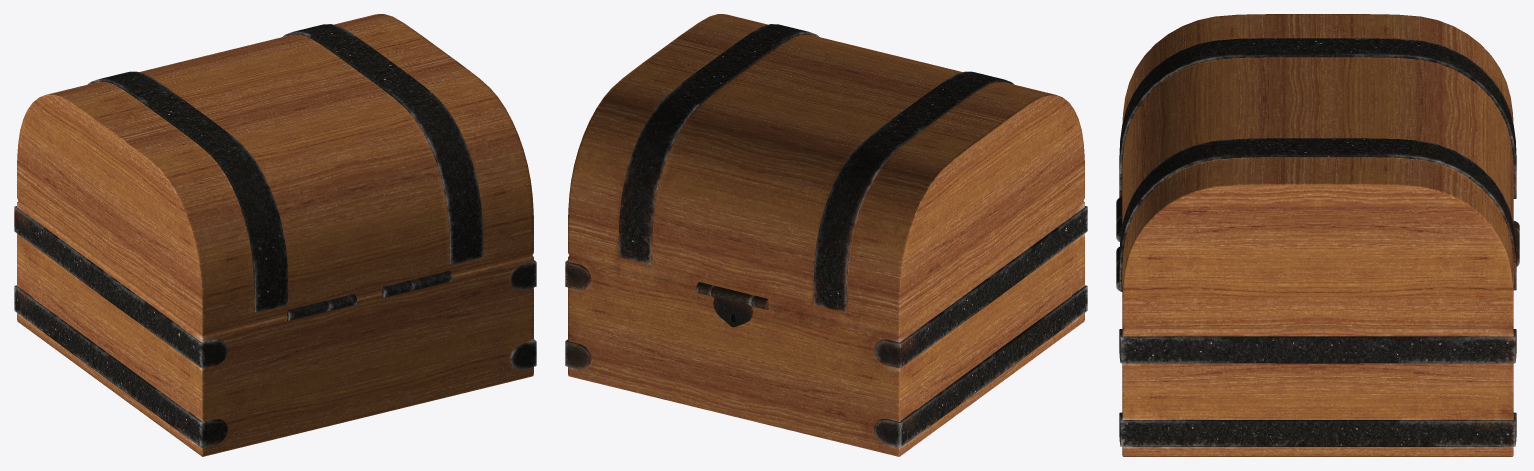
Rendered from treasurebox_open2.fbx.
3 views of the same model, side by side, from view 1: azimuth 30°, elevation 25°; view 2: azimuth 150°, elevation 25°; view 3: azimuth 270°, elevation 25° (orthographic). The views are drawn at different scales.
Visible parts, largest first — view 1: _Treasure_Chest, _Treasure_Chest_v1_l1:_Treasure_Chest; view 2: _Treasure_Chest, _Treasure_Chest_v1_l1:_Treasure_Chest; view 3: _Treasure_Chest, _Treasure_Chest_v1_l1:_Treasure_Chest.
Boxes of the visible parts, <box> form: _Treasure_Chest: <box>17,14,533,332</box>; _Treasure_Chest_v1_l1:_Treasure_Chest: <box>14,195,536,456</box>; _Treasure_Chest: <box>568,14,1084,333</box>; _Treasure_Chest_v1_l1:_Treasure_Chest: <box>565,195,1087,456</box>; _Treasure_Chest: <box>1116,14,1519,326</box>; _Treasure_Chest_v1_l1:_Treasure_Chest: <box>1116,189,1519,456</box>.
Bounding box in the file's own units: 0.1701 × 0.1262 × 0.1675.
1 material, 1 textured.
